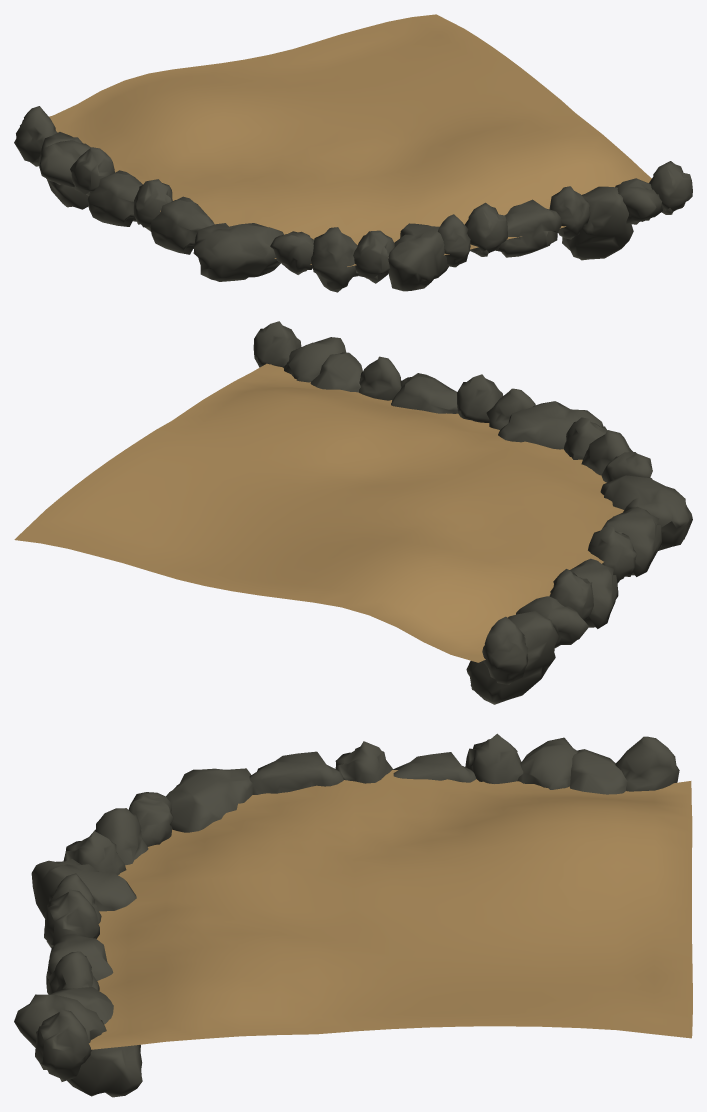
Rendered from small_ground_01.fbx.
3 renders of one model, top to bottom at view 1: azimuth 30°, elevation 25°; view 2: azimuth 150°, elevation 25°; view 3: azimuth 270°, elevation 25°, orthographic. The views are drawn at different scales.
Visible parts, largest first — view 1: polySurface_small_ground_01; view 2: polySurface_small_ground_01; view 3: polySurface_small_ground_01.
Part boxes in pixels (box(x1,y1,x2,y2)): polySurface_small_ground_01: box(14, 14, 692, 292); polySurface_small_ground_01: box(14, 321, 692, 704); polySurface_small_ground_01: box(14, 733, 692, 1097).
Bounding box in the file's own units: 12117 × 2281 × 11185.
